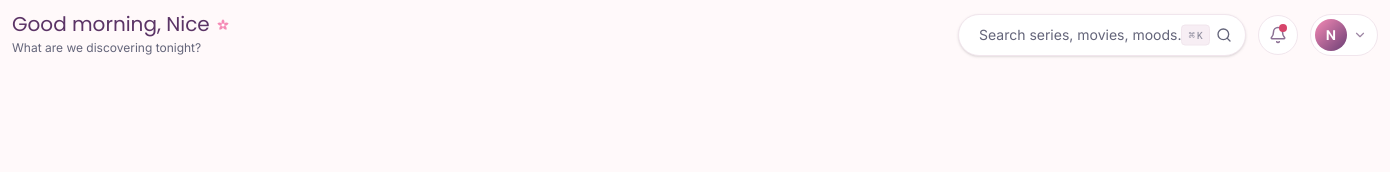
Scenario: DashboardHeader notifications bell (G3-01) › shows the unread dot and lists unread notifications, then clears on open
Click the button named "Notifications": (1278, 34) [1258,14,1298,54]
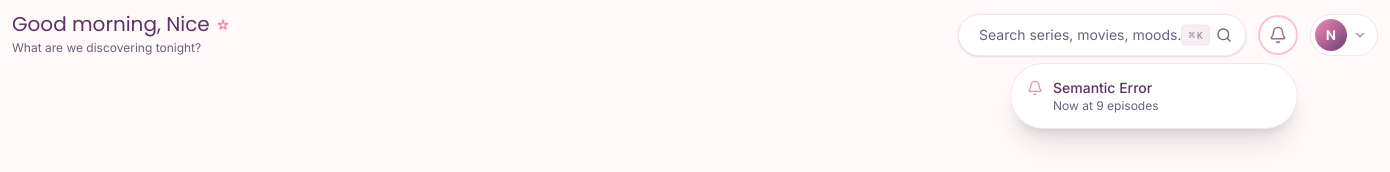
Expected: the text "Semantic Error" is shown, [1053,78,1152,96]
Expected: the text "Now at 9 episodes" is shown, [1053,98,1159,112]
